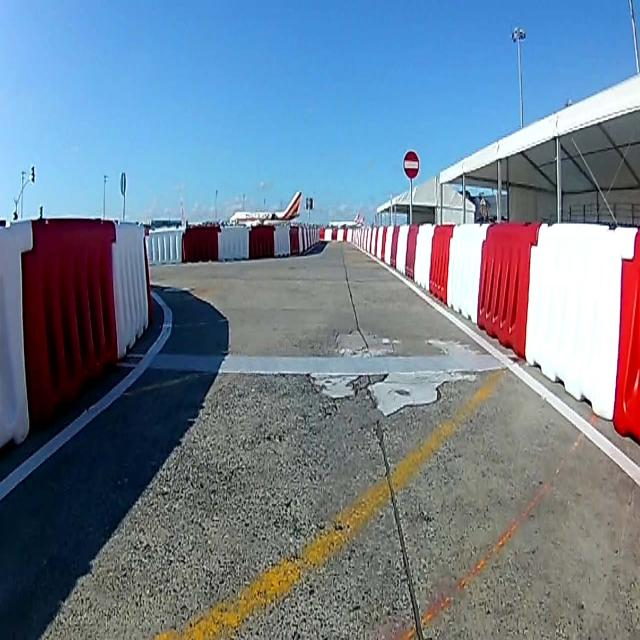girisyok: (402, 148, 421, 180)
